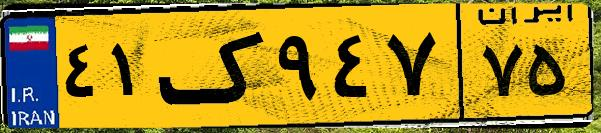1: (110, 28, 158, 98)
4: (330, 28, 385, 110), (57, 26, 110, 100)
5: (525, 38, 570, 115)
7: (385, 28, 445, 110), (475, 38, 525, 113)
9: (270, 28, 330, 110)
ک: (158, 12, 270, 120)
